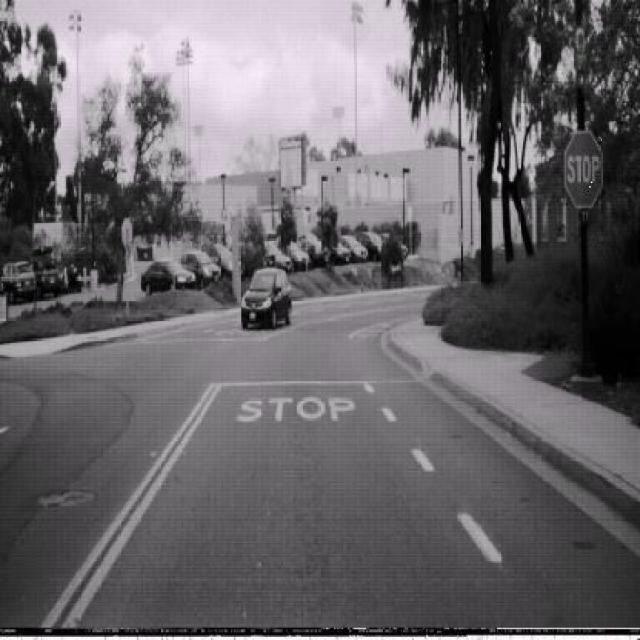stop: (563, 129, 603, 207)
